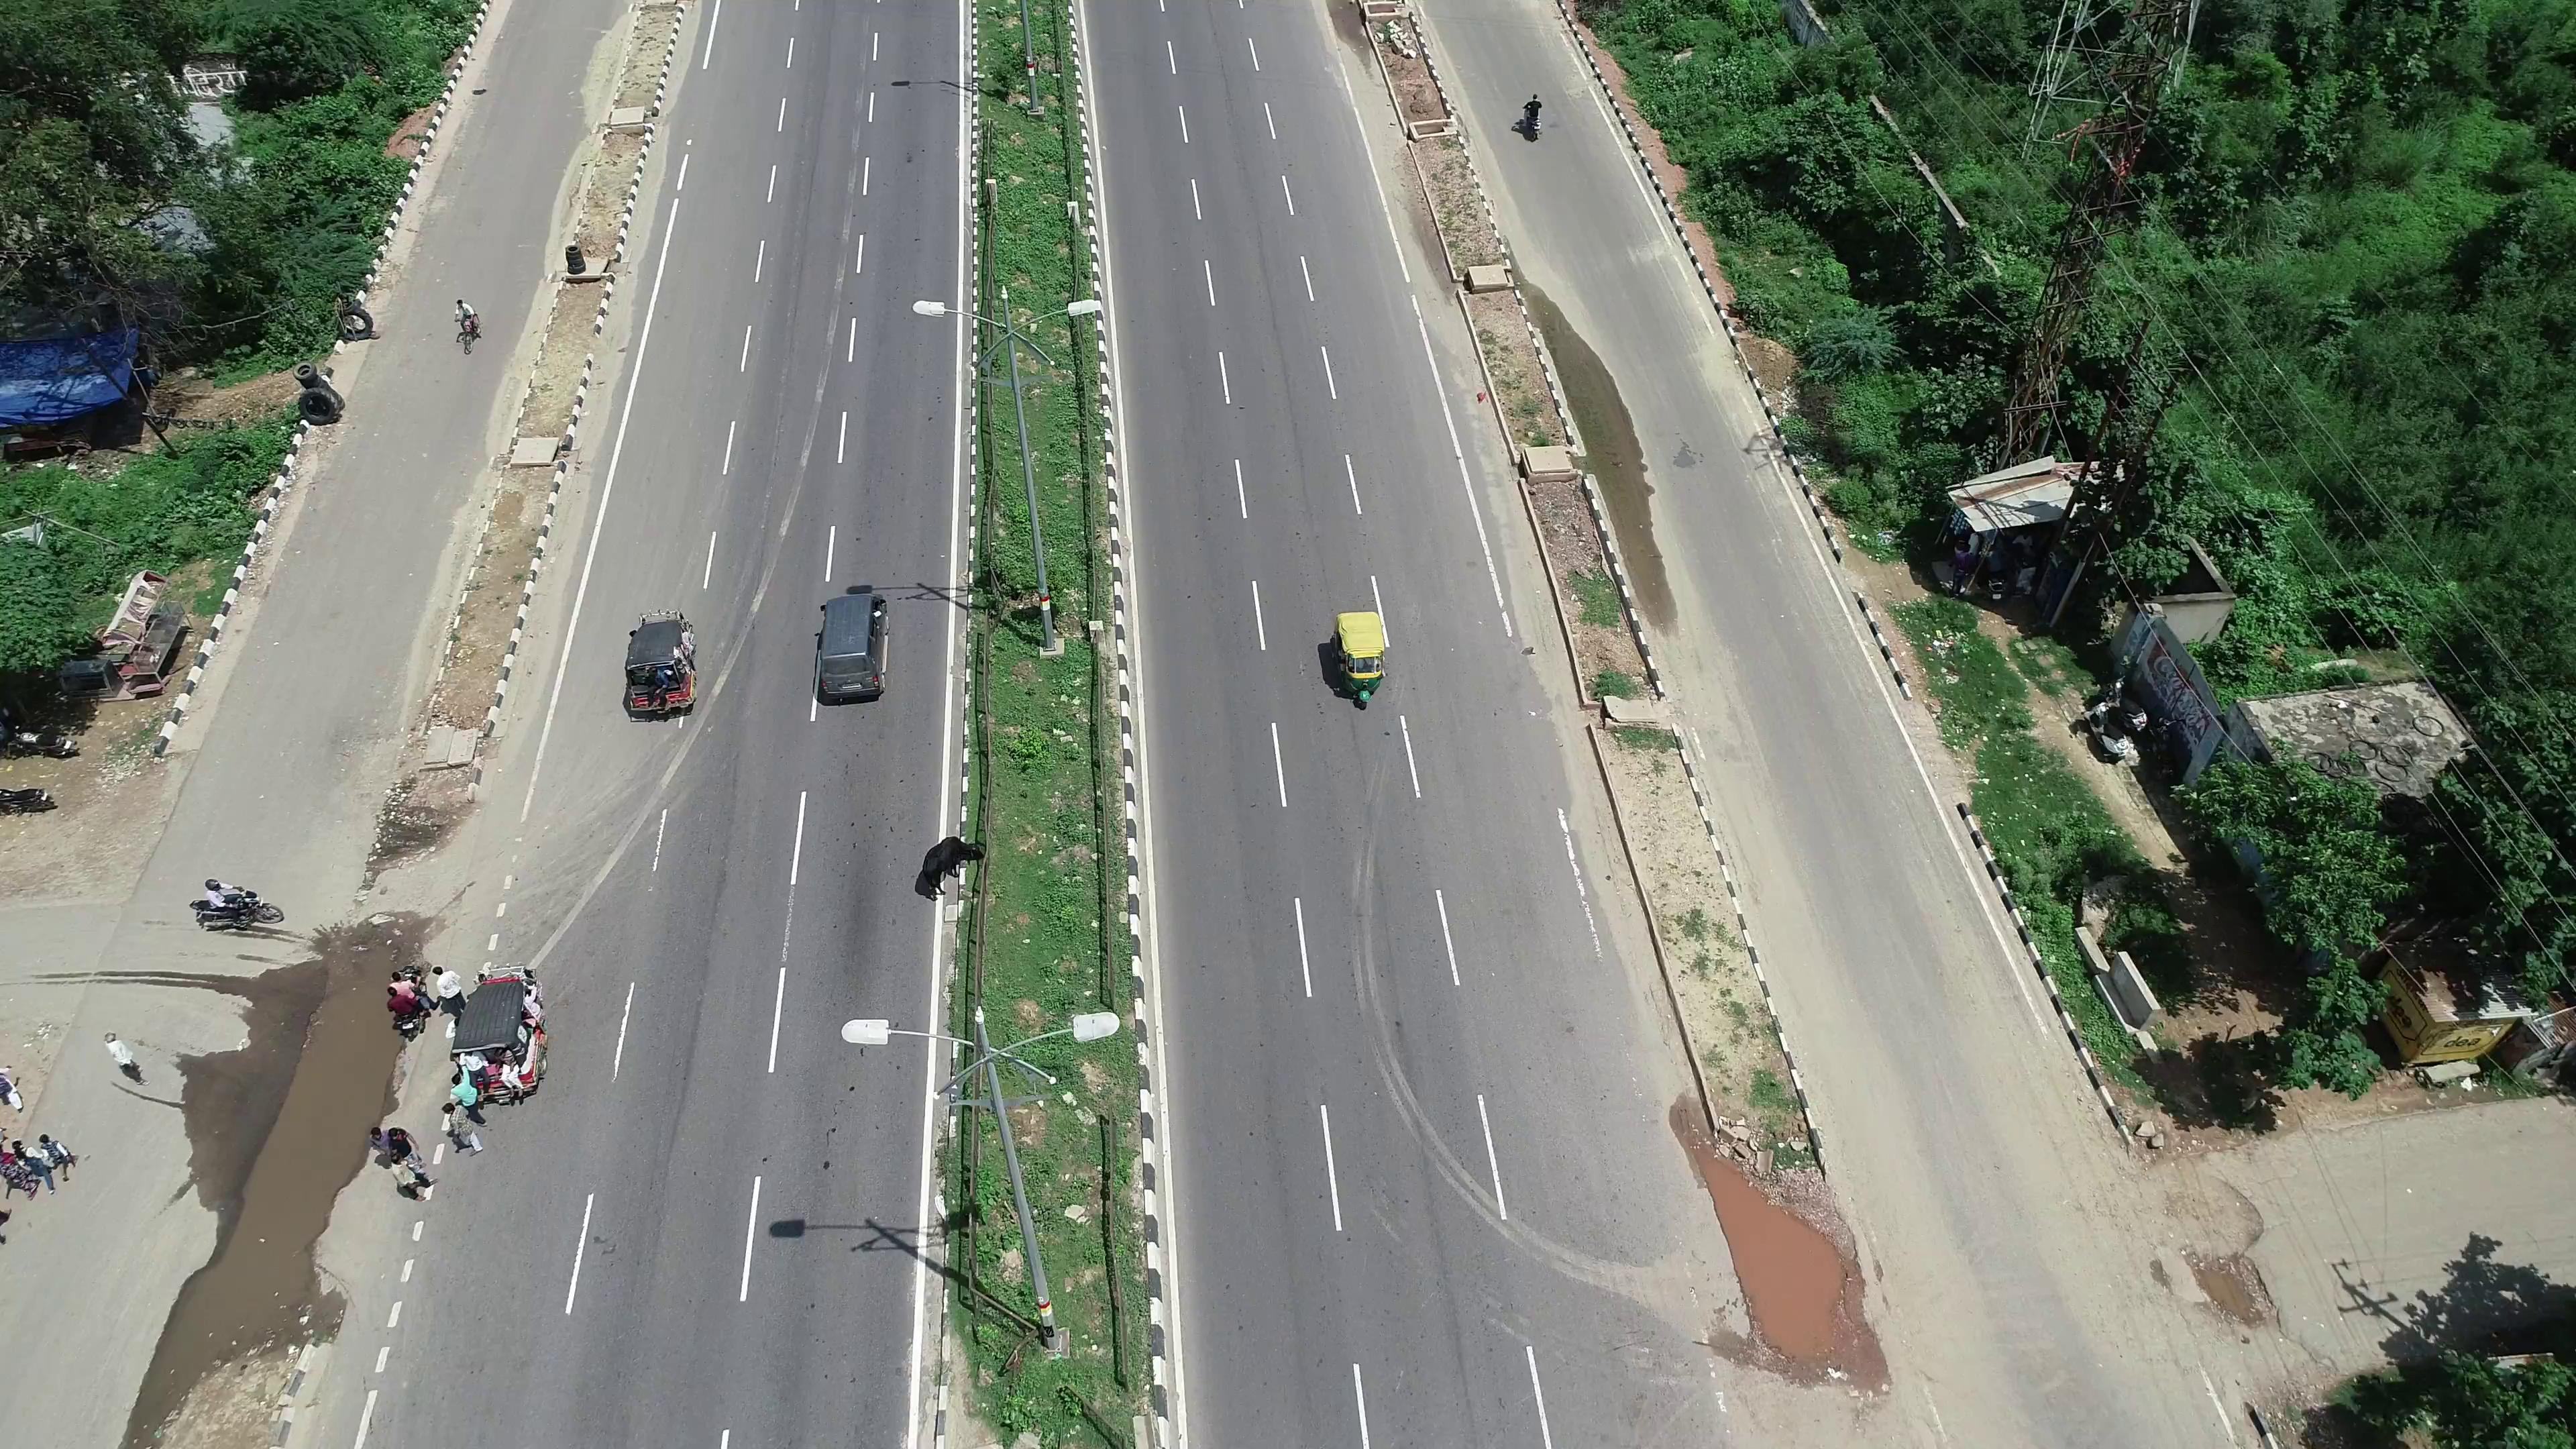Waterlogging: (163, 1017, 386, 1316), (1668, 1150, 1842, 1357)
